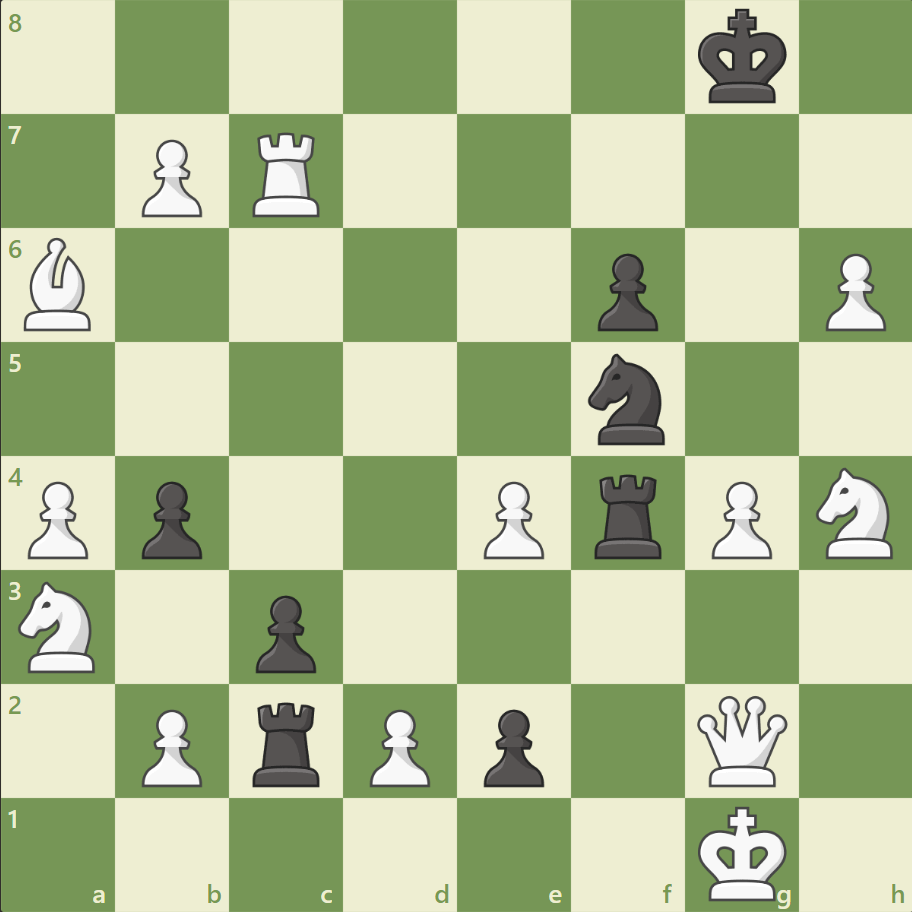B: (17, 233, 101, 336)
K: (692, 798, 792, 906)
N: (806, 461, 903, 564), (11, 575, 108, 677)
P: (133, 132, 208, 223), (20, 473, 95, 564), (474, 473, 549, 564), (701, 473, 776, 564), (133, 700, 208, 791), (815, 246, 889, 337), (361, 700, 435, 791)
Q: (691, 690, 790, 789)
R: (246, 125, 329, 222)
k: (692, 4, 792, 112)
n: (579, 348, 676, 450)
p: (133, 473, 208, 564), (247, 586, 322, 677), (474, 700, 549, 791), (588, 246, 662, 337)
r: (587, 466, 670, 563), (246, 693, 329, 790)
